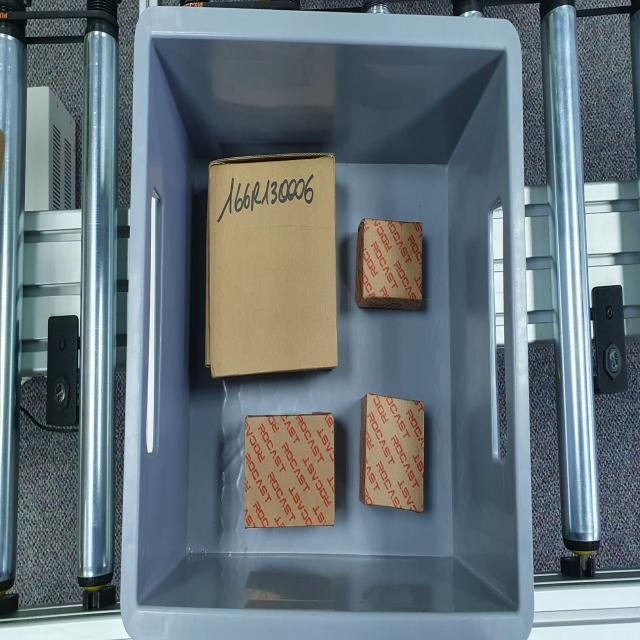box: (205, 153, 339, 379), (242, 415, 338, 530), (364, 391, 427, 514), (360, 218, 424, 305)
